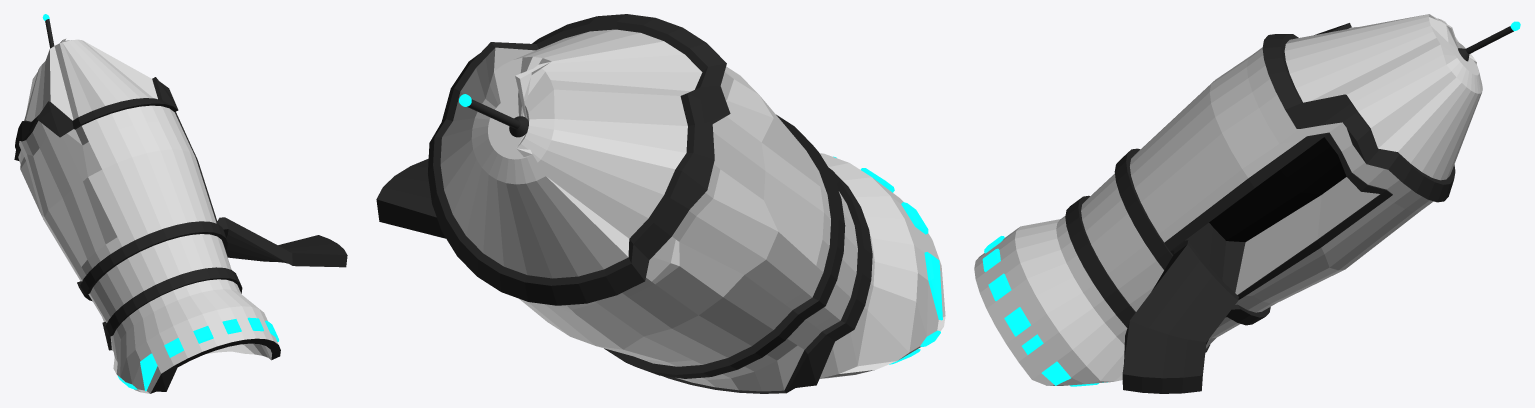
The model's file is CrashedRocket.fbx.
3 renders of one model, left to right at view 1: azimuth 30°, elevation 25°; view 2: azimuth 150°, elevation 25°; view 3: azimuth 270°, elevation 25°, orthographic. The views are drawn at different scales.
Visible parts, largest first — view 1: Cylinder; view 2: Cylinder; view 3: Cylinder.
Part boxes in pixels (x1,y1,x2,y2): Cylinder: (14, 14, 347, 393); Cylinder: (376, 14, 945, 393); Cylinder: (974, 14, 1520, 393).
Bounding box in the file's own units: 343 × 314 × 473.
